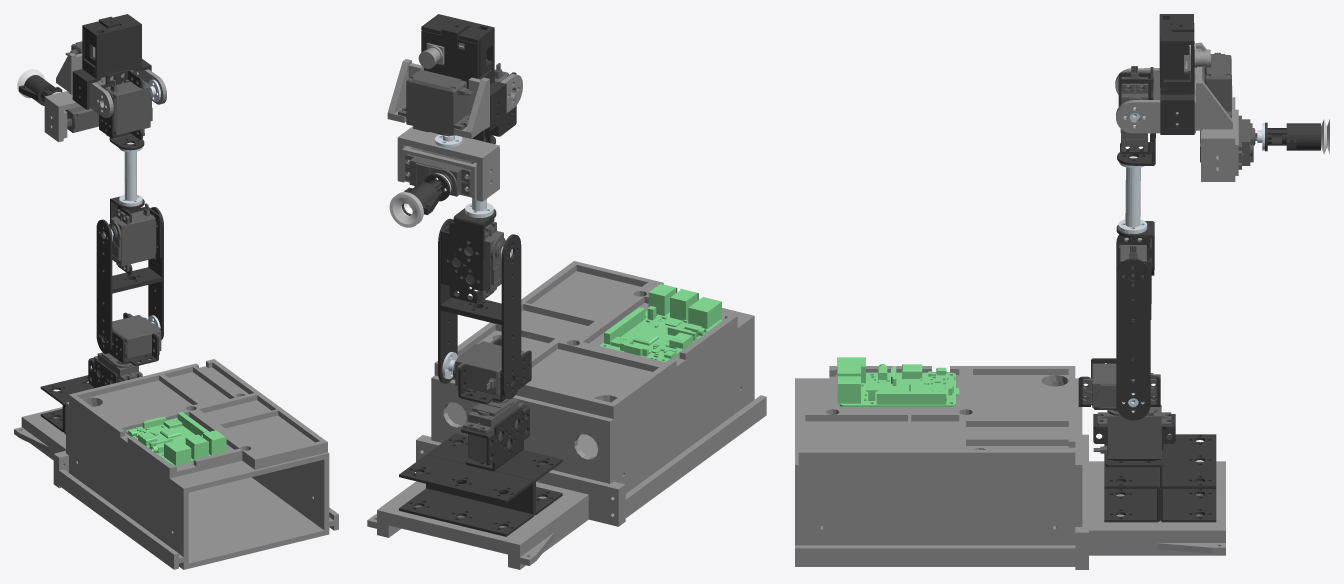
File: RoboticArmWithBaseV1.fbx
The picture shows the model from 3 angles, left to right: view 1: azimuth 30°, elevation 25°; view 2: azimuth 150°, elevation 25°; view 3: azimuth 270°, elevation 25°; orthographic projection. The views are drawn at different scales.
Parts seen in each view (by area): view 1: Base, Link3, Link4, Link2, Link1, Link5, End-Effector; view 2: Base, Link4, Link3, Link2, Link5, Link1, End-Effector; view 3: Base, Link4, Link2, Link3, Link5, Link1, End-Effector.
Boxes of the visible parts, x1,y1,x2,y2 form: Base: (14, 352, 338, 569); Link3: (99, 69, 161, 274); Link4: (56, 14, 166, 117); Link2: (96, 207, 163, 353); Link1: (103, 312, 161, 366); Link5: (44, 91, 98, 142); End-Effector: (17, 69, 62, 105); Base: (367, 261, 766, 569); Link4: (387, 14, 522, 138); Link3: (440, 63, 516, 303); Link2: (438, 218, 521, 399); Link5: (397, 126, 499, 201); Link1: (453, 338, 531, 404); End-Effector: (389, 173, 450, 227); Base: (795, 357, 1225, 569); Link4: (1115, 14, 1232, 134); Link2: (1116, 235, 1150, 420); Link3: (1116, 66, 1155, 319); Link5: (1200, 97, 1257, 181); Link1: (1078, 358, 1160, 409); End-Effector: (1265, 119, 1329, 154).
Size of the model in its own units: 17000 by 40523 by 39103.
